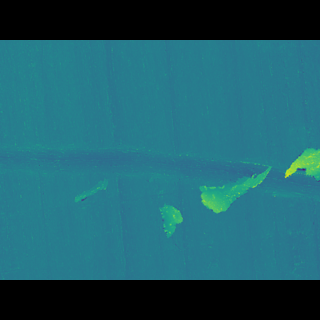Loch: (0, 145, 320, 196), (197, 163, 274, 201), (285, 146, 320, 176), (155, 191, 188, 221)
